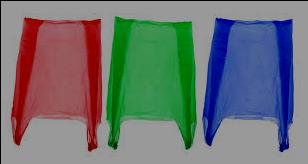Plastic: (7, 10, 106, 152), (106, 8, 202, 149), (202, 19, 301, 154)
